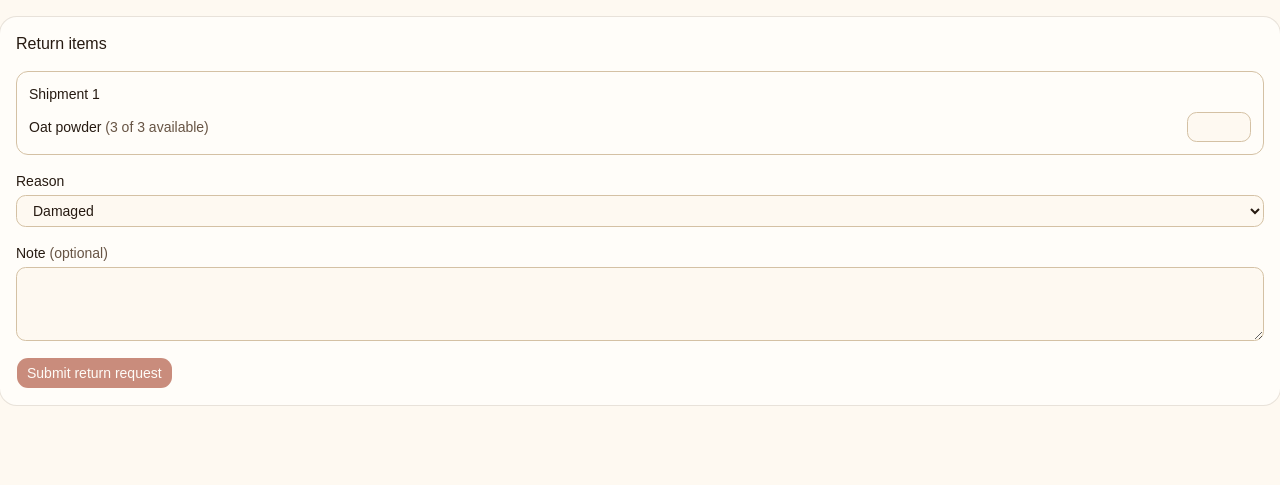
ReturnPanel › handles 409 conflict by clearing form and refreshing
The image size is (1280, 485).
Expected: the text "Oat powder" is shown, [29,119,101,135]
Step 1. Type "1" into the number field named "Quantity to return for Oat powder" → (1219, 127), box [1187,112,1251,142]
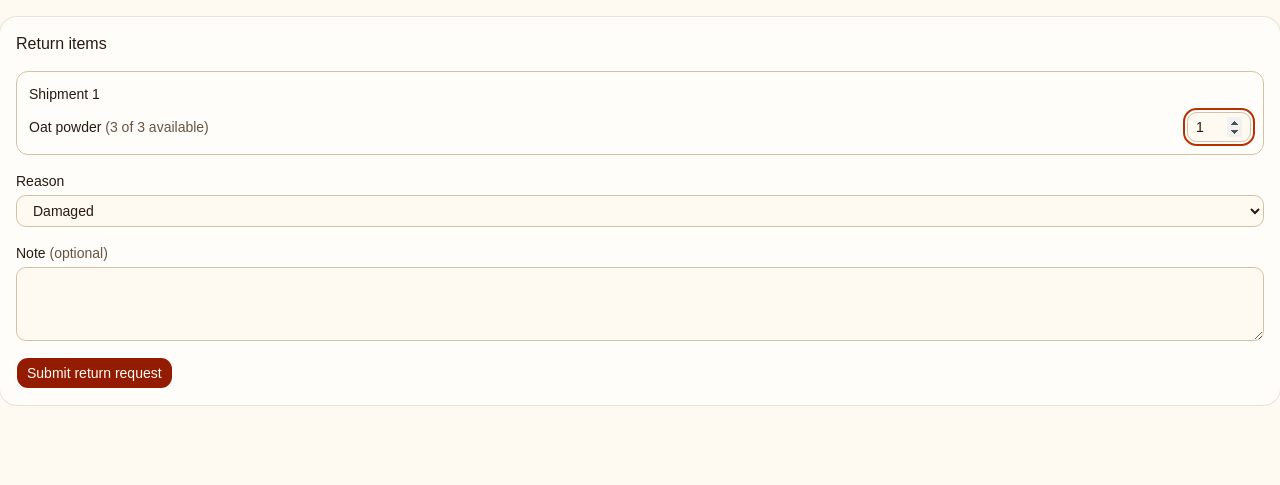
Step 2. Click the button "Submit return request" → (94, 373), box [16,357,173,389]
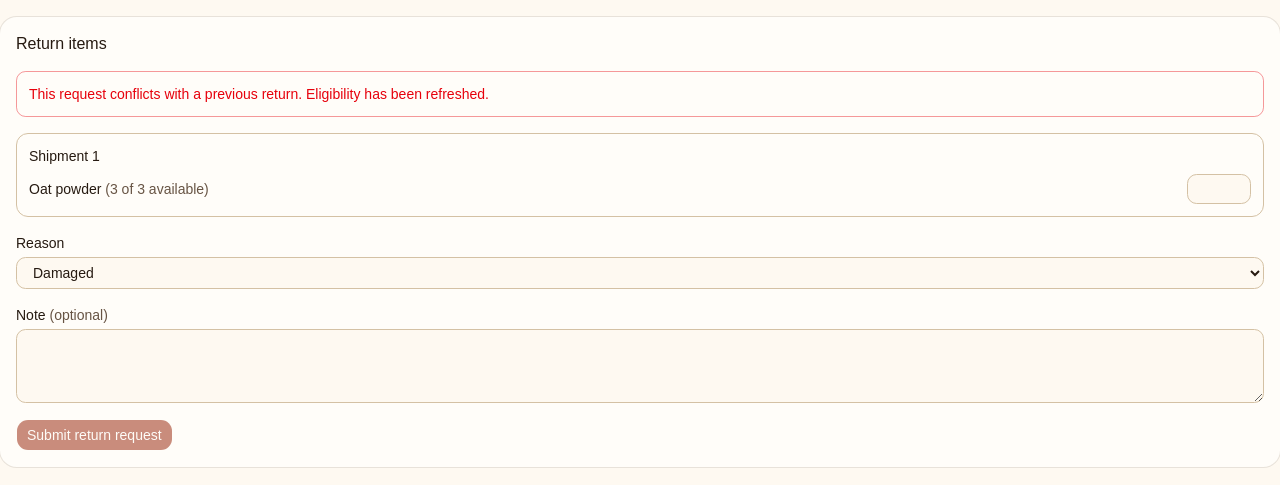
Result: the text "This request conflicts with a previous return. Eligibility has been refreshed." is shown at [16,71,1264,117]
